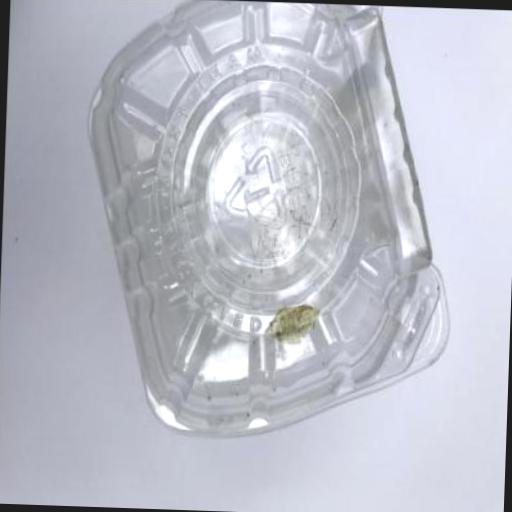plastic: (74, 0, 463, 445)
